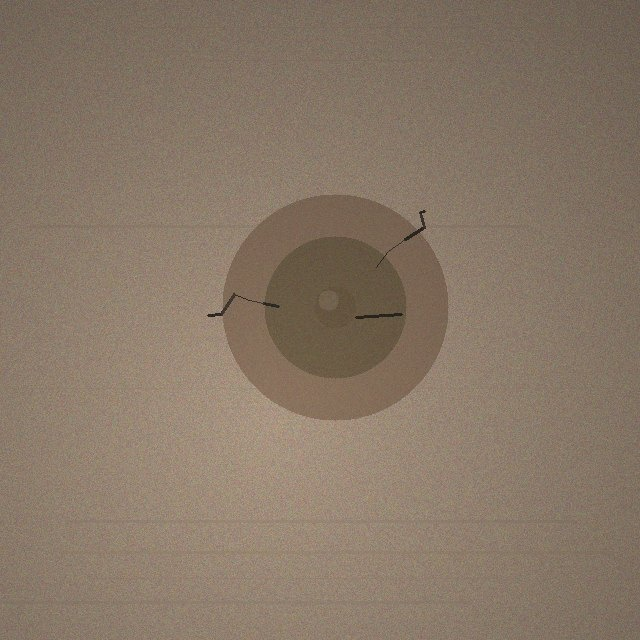crack: (222, 194, 448, 420)
